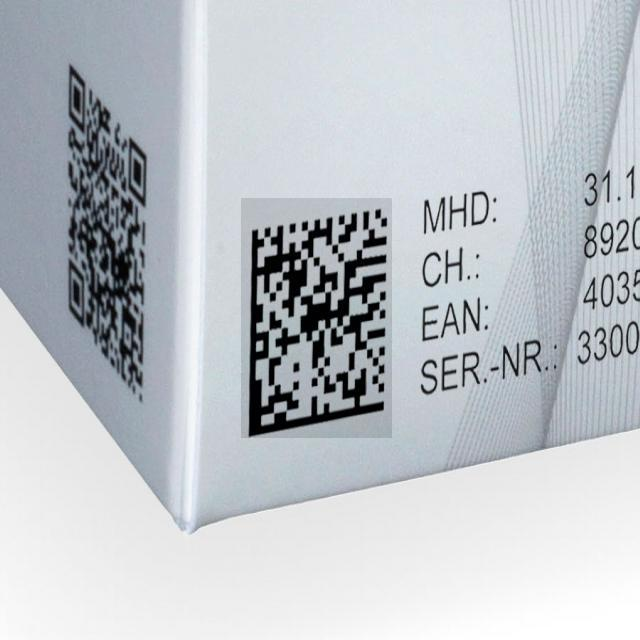Data-Matrix: (241, 198, 392, 438)
